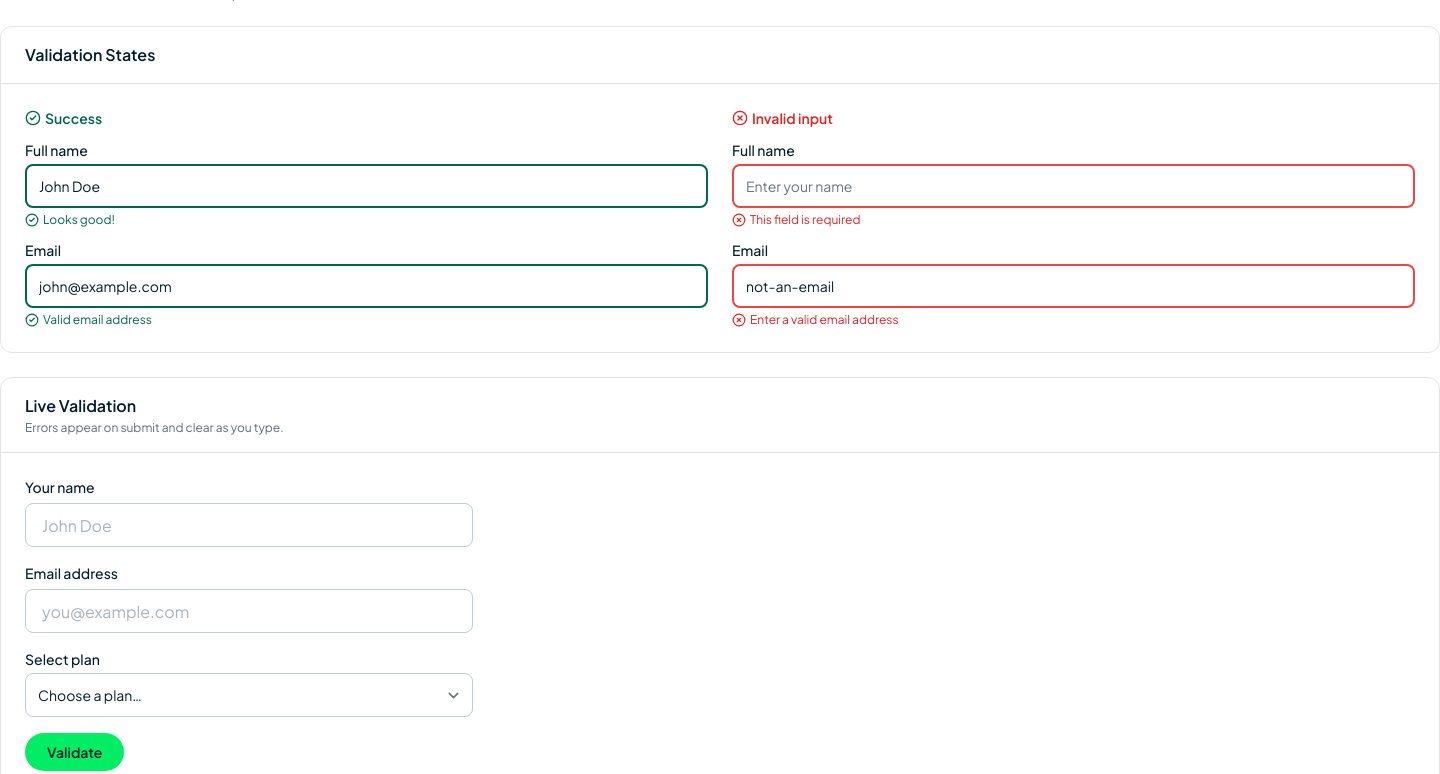
Test case: ValidationPage › clears error after typing
(page scrolled)
Click the button "Validate" at (75, 752), box [25,733,124,771]
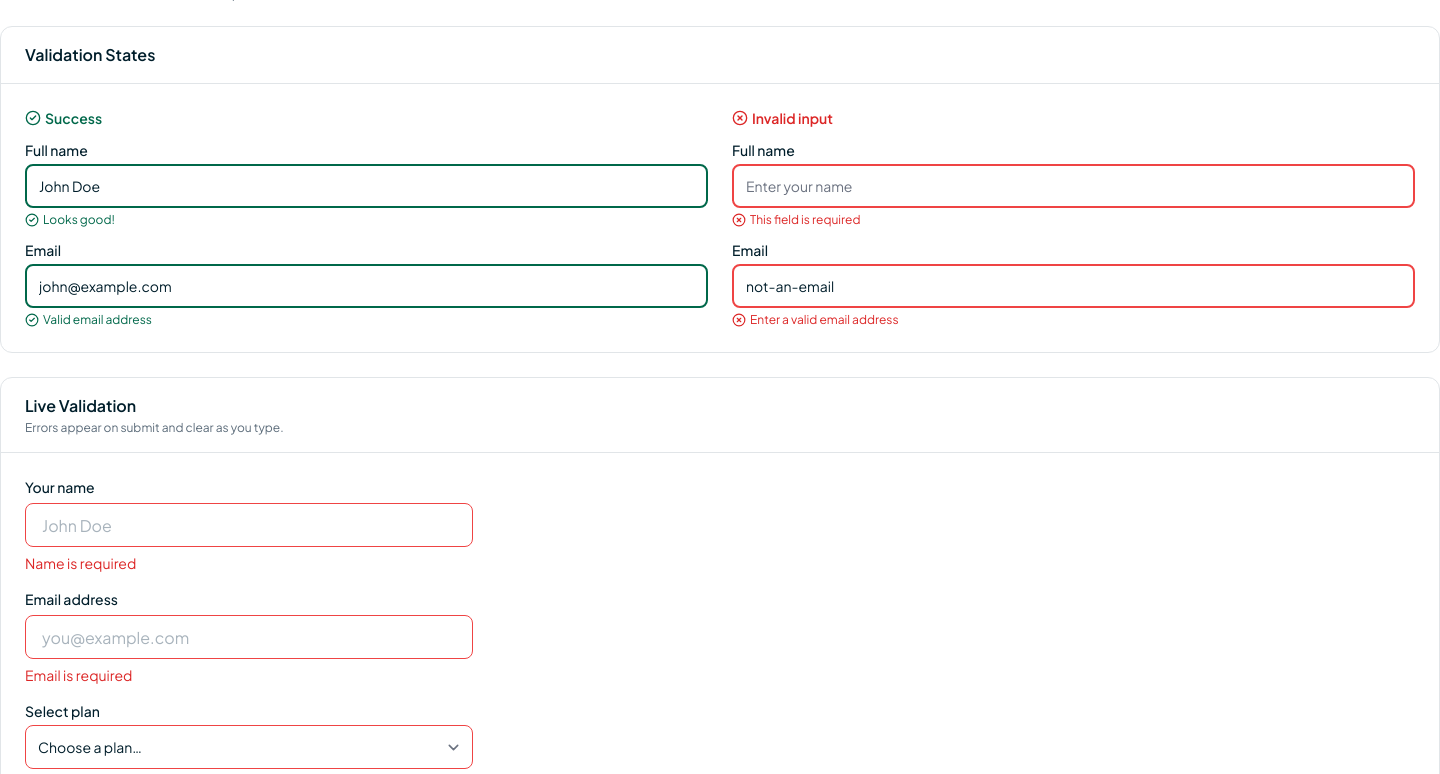
Now the text "Name is required" is shown, box [25,554,136,572]
Type "John" into the field labelled "Your name" at (249, 525), box [25,503,473,547]
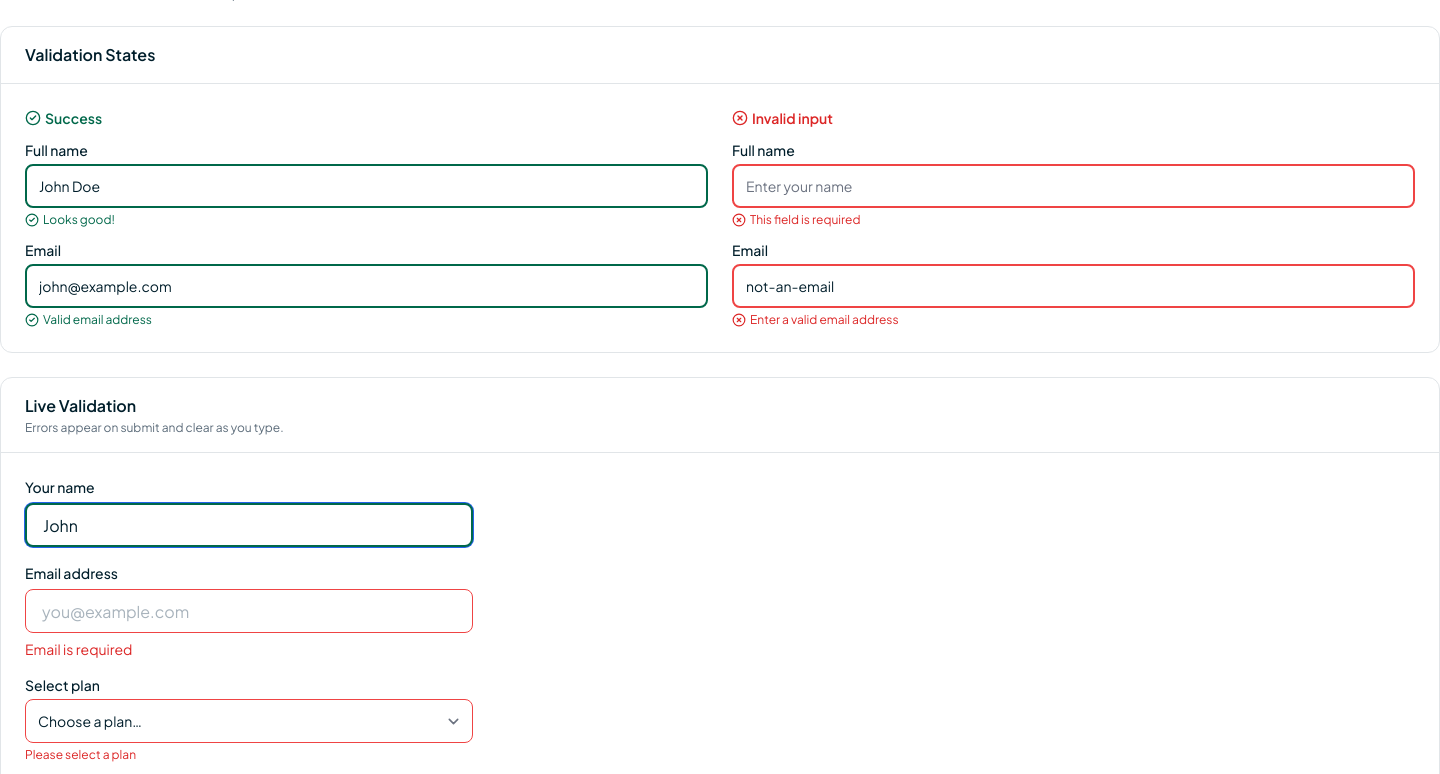
Now the text "Name is required" is gone
